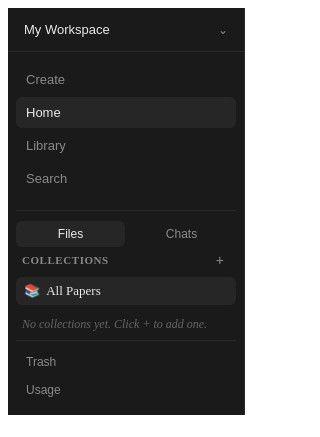
Sidebar › shows the Usage stub linking [P2-09]
Click the button "Usage".
click(126, 390)  # box [16,377,236,403]
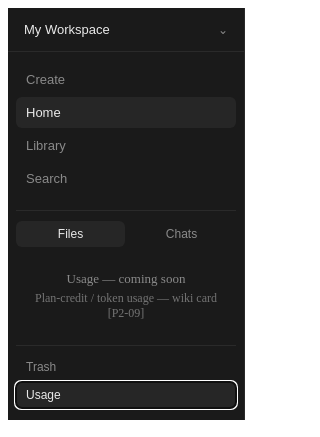
Expected: the text "Usage — coming soon" is shown, [67,271,185,287]
Expected: the text "Plan-credit / token usage — wiki card [P2-09]" is shown, [32,291,220,321]
